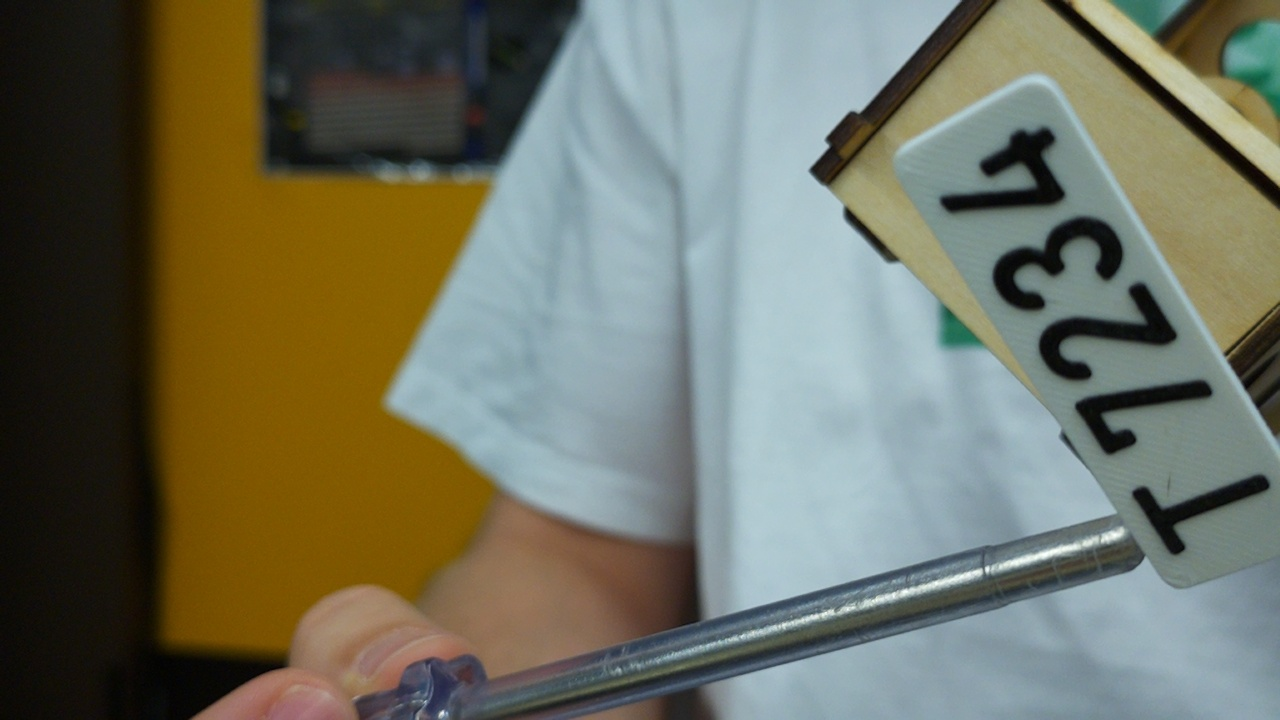license_plate: (888, 70, 1280, 593)
